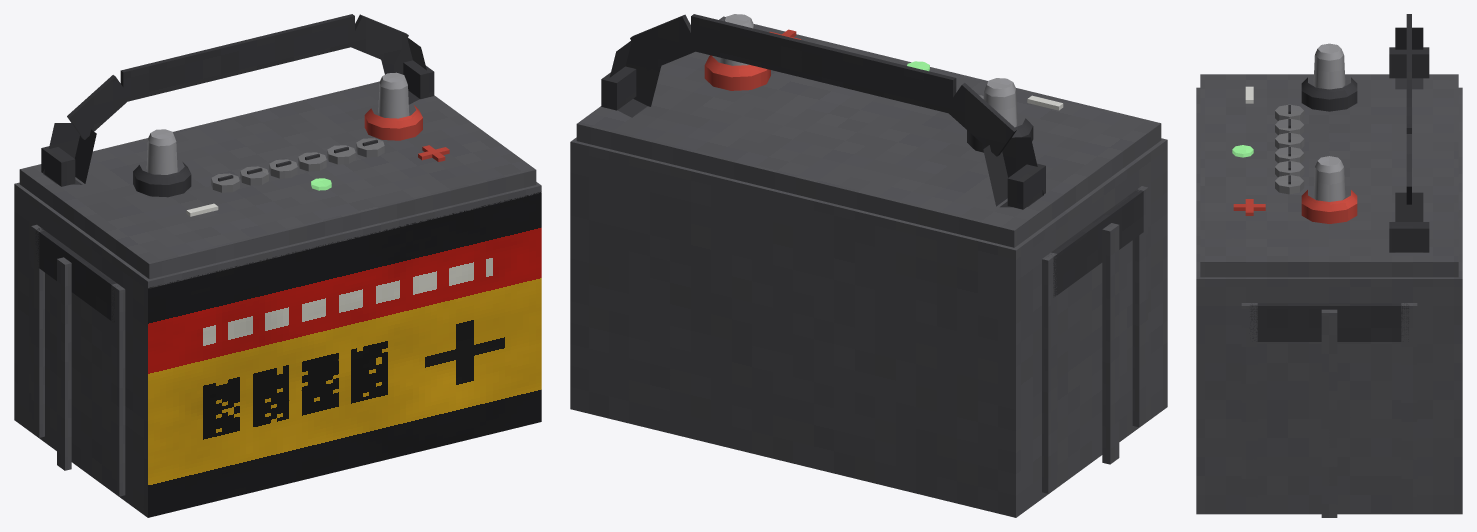
File: item_car_battery.glb
3 renders of one model, left to right at view 1: azimuth 30°, elevation 25°; view 2: azimuth 150°, elevation 25°; view 3: azimuth 270°, elevation 25°, orthographic. The views are drawn at different scales.
Visible parts, largest first — view 1: battery; view 2: battery; view 3: battery.
Boxes of the visible parts, box(x1,y1,x2,y2) form: battery: box(14, 14, 541, 517); battery: box(570, 14, 1167, 517); battery: box(1196, 14, 1462, 517).
Size of the model in its own units: 0.375 by 0.2875 by 0.2.
Materials: 8 (8 with a texture image).
